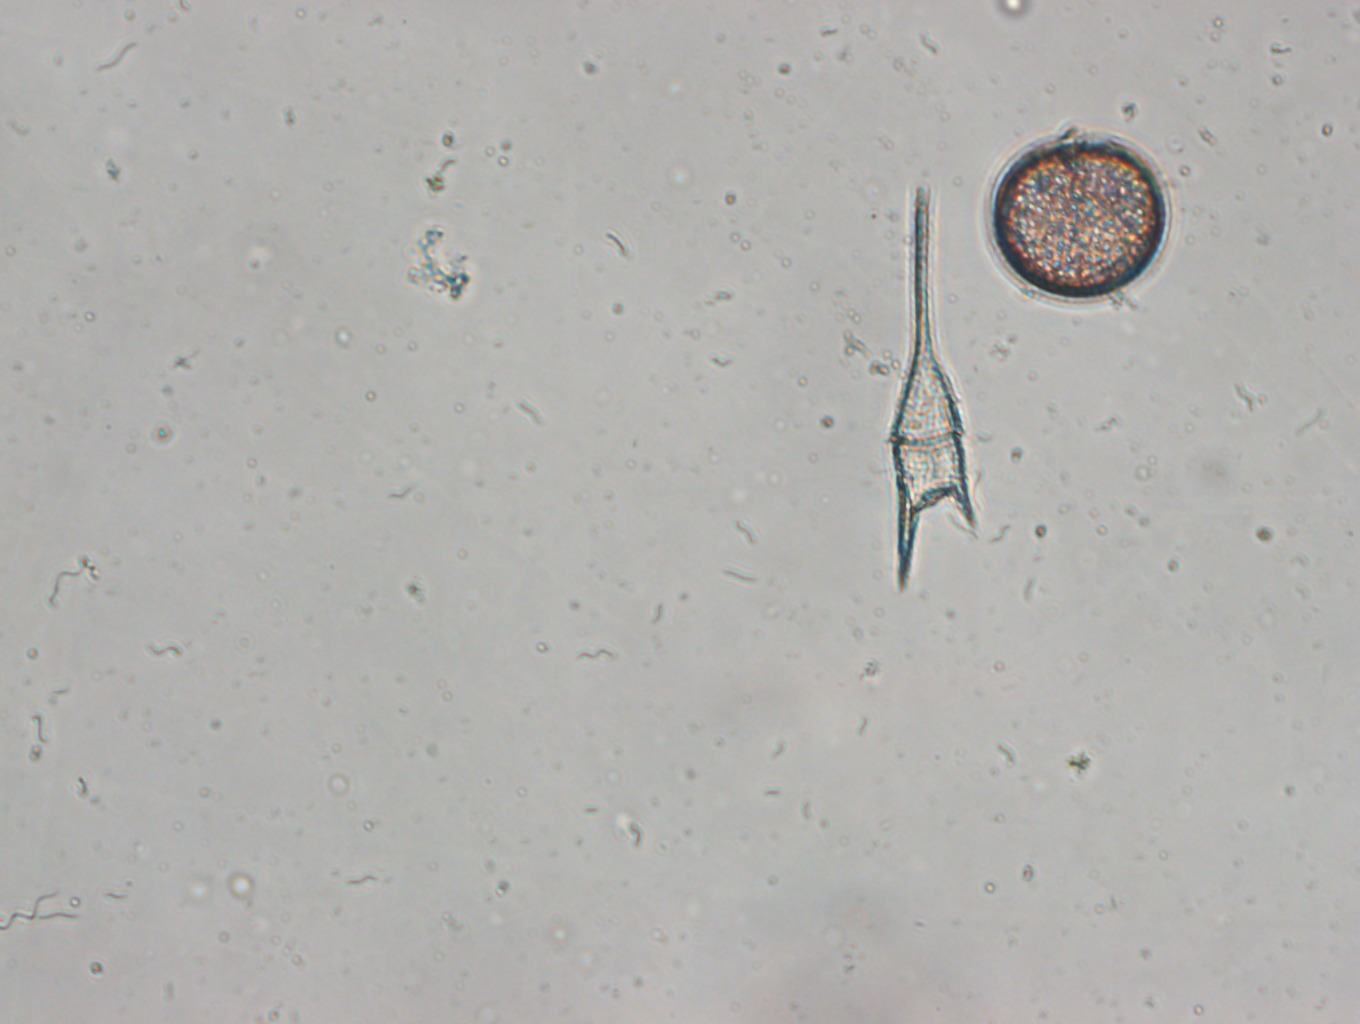ceratium furca: (876, 177, 993, 599)
coscinodiscus: (978, 119, 1178, 307)
